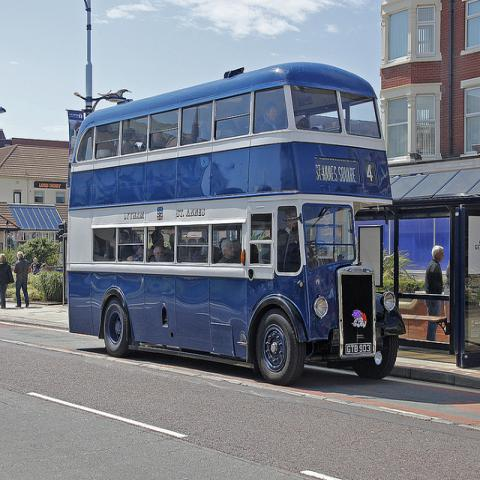bus: (67, 65, 406, 387)
